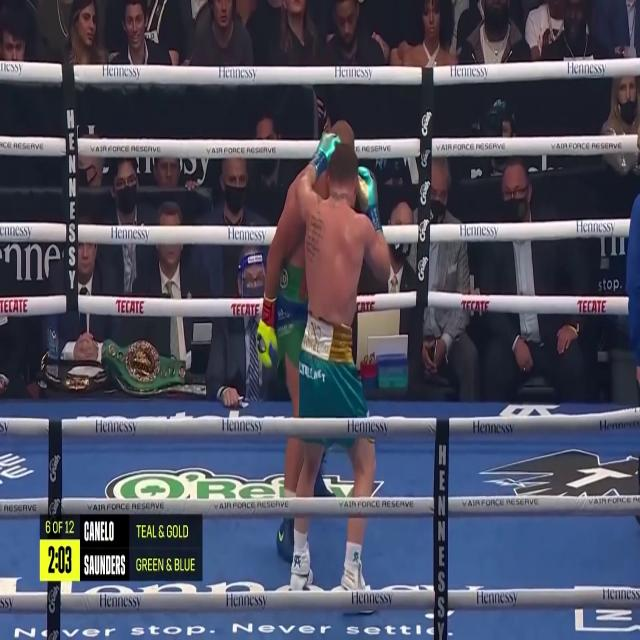boxer_1: (286, 229, 307, 272), (331, 121, 354, 149), (314, 175, 330, 200)
boxer_2: (306, 146, 364, 328)
gloves_1: (257, 293, 277, 369)
gloves_2: (357, 165, 383, 232), (310, 132, 342, 183)
